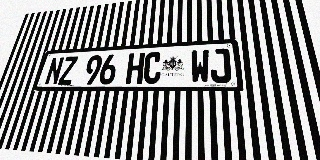6: (98, 54, 118, 84)
9: (83, 55, 103, 85)
C: (143, 52, 162, 84)
H: (125, 53, 145, 84)
J: (210, 48, 232, 83)
N: (44, 57, 65, 85)
W: (190, 49, 210, 83)
Z: (58, 56, 78, 85)
